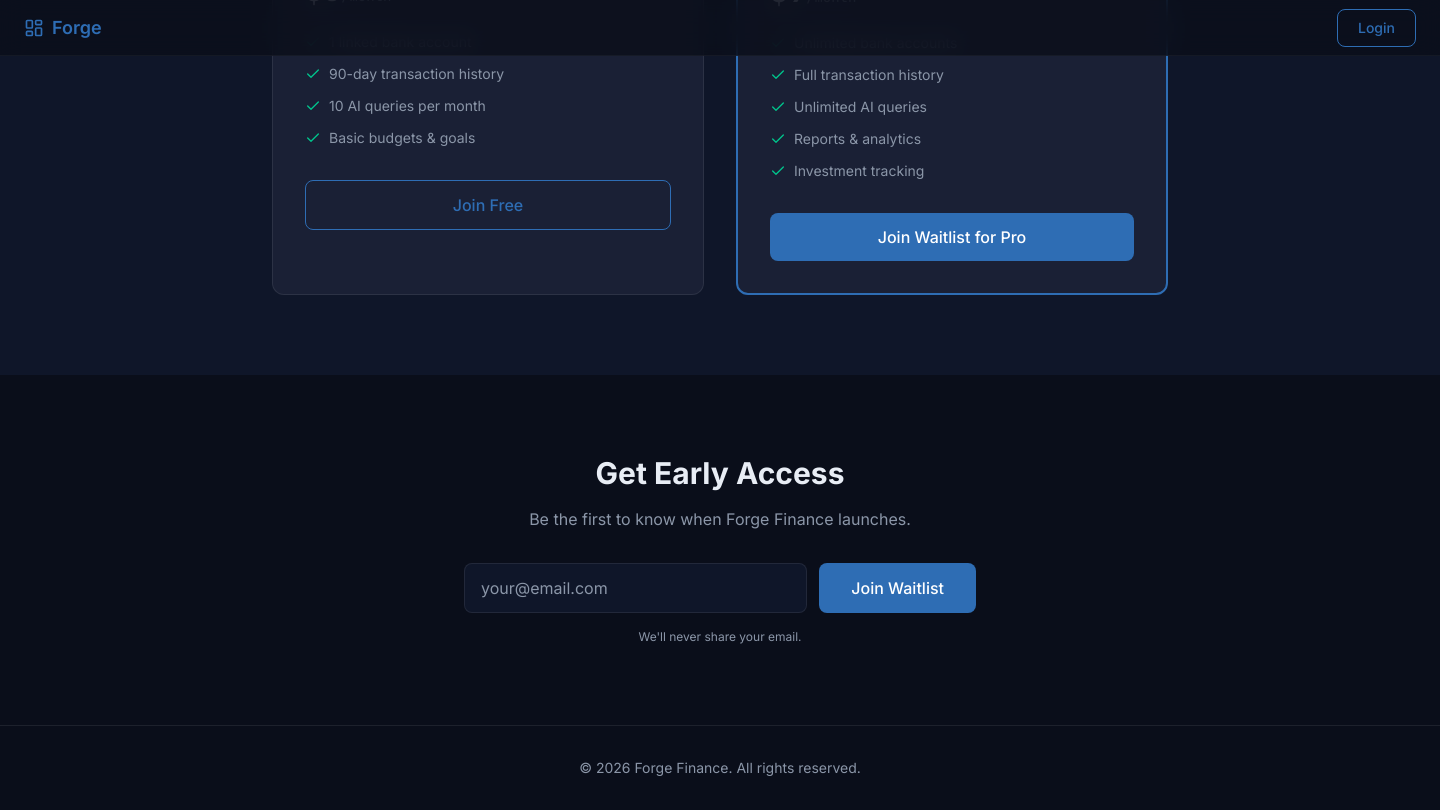
Test: Landing Page › renders waitlist form and shows success on submit
(page scrolled)
Type "test@example.com" into the field with placeholder "your@email.com" at (636, 588), box [464, 563, 807, 613]
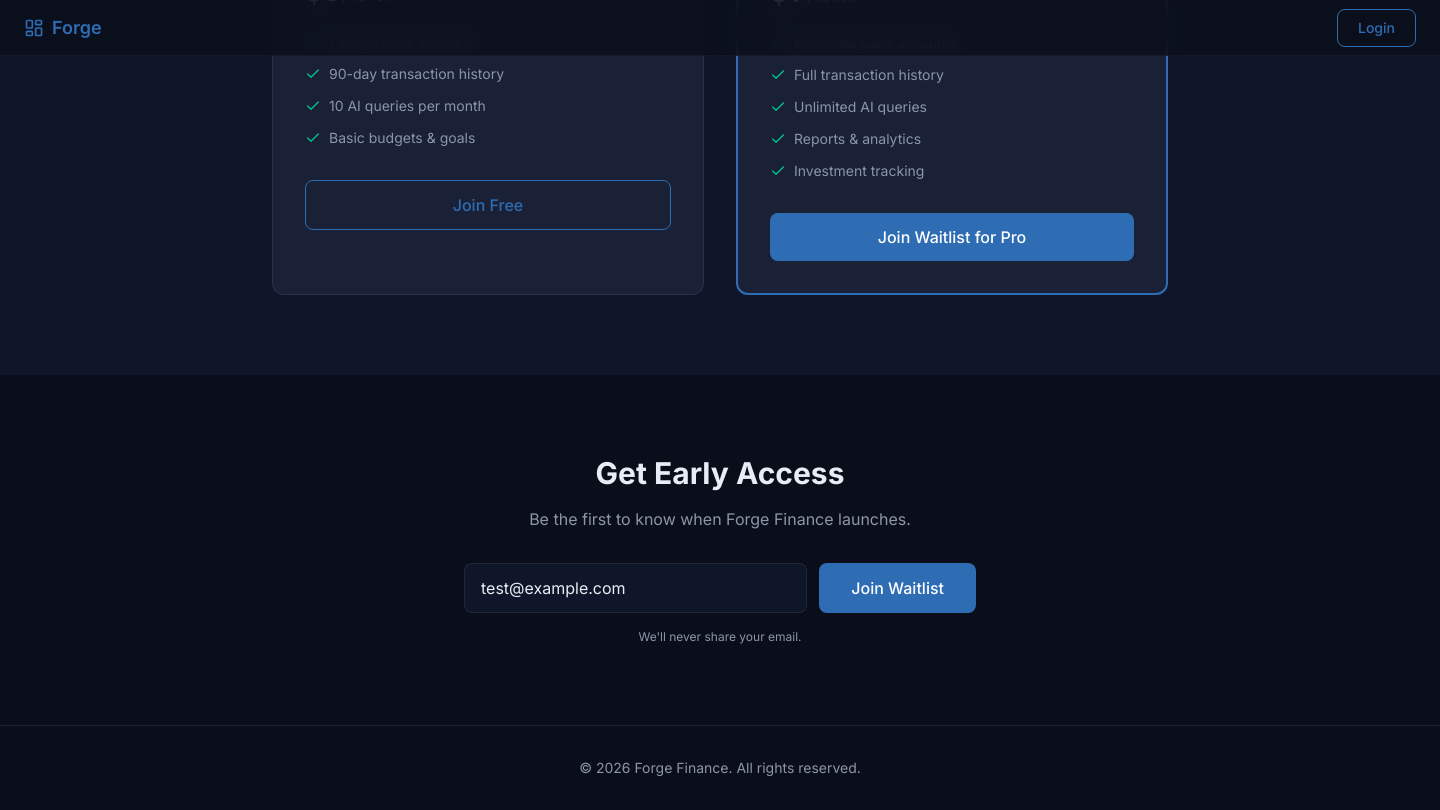
Submit the form with placeholder "your@email.com", box [464, 563, 976, 613]
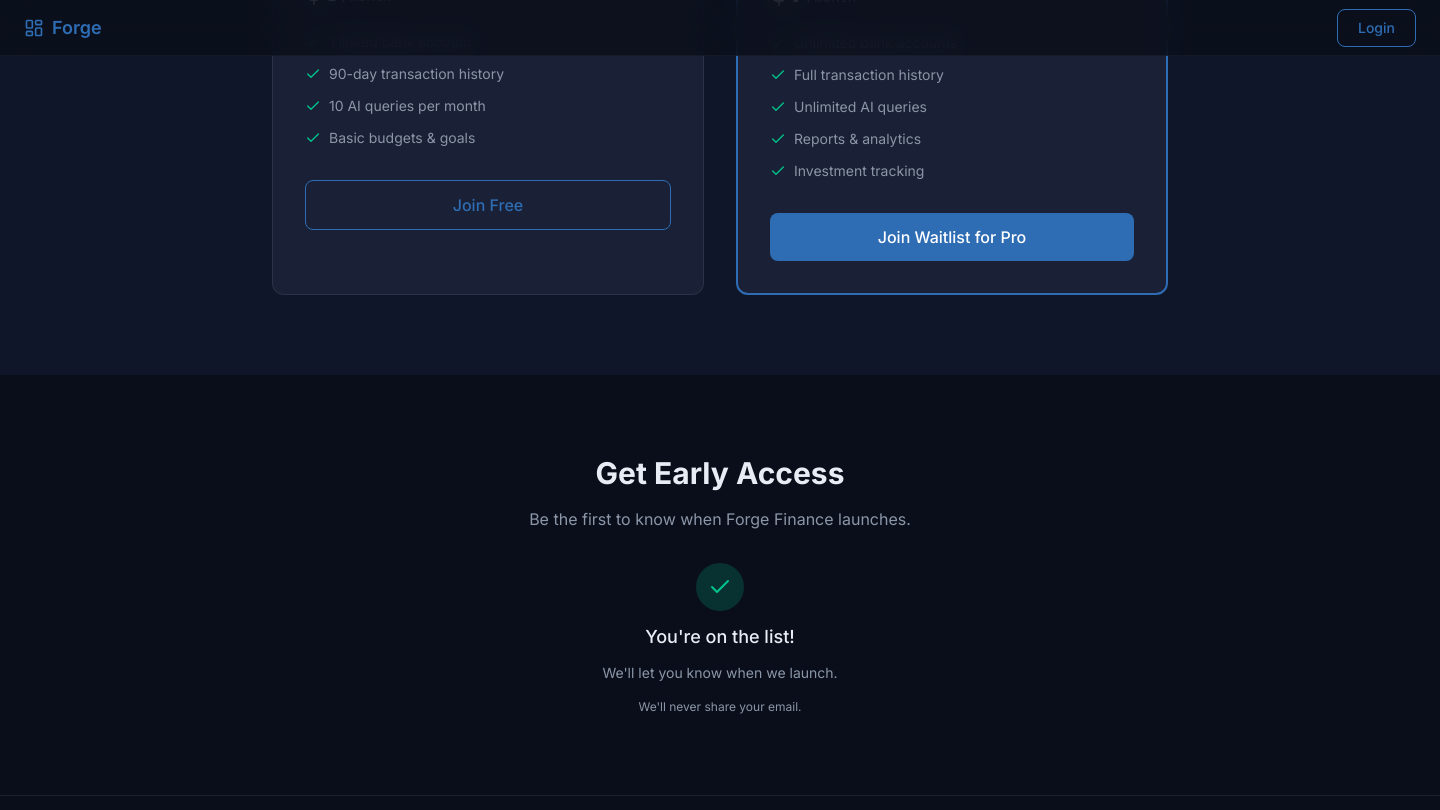
Now the text "You're on the list!" is shown, box [645, 623, 795, 651]
